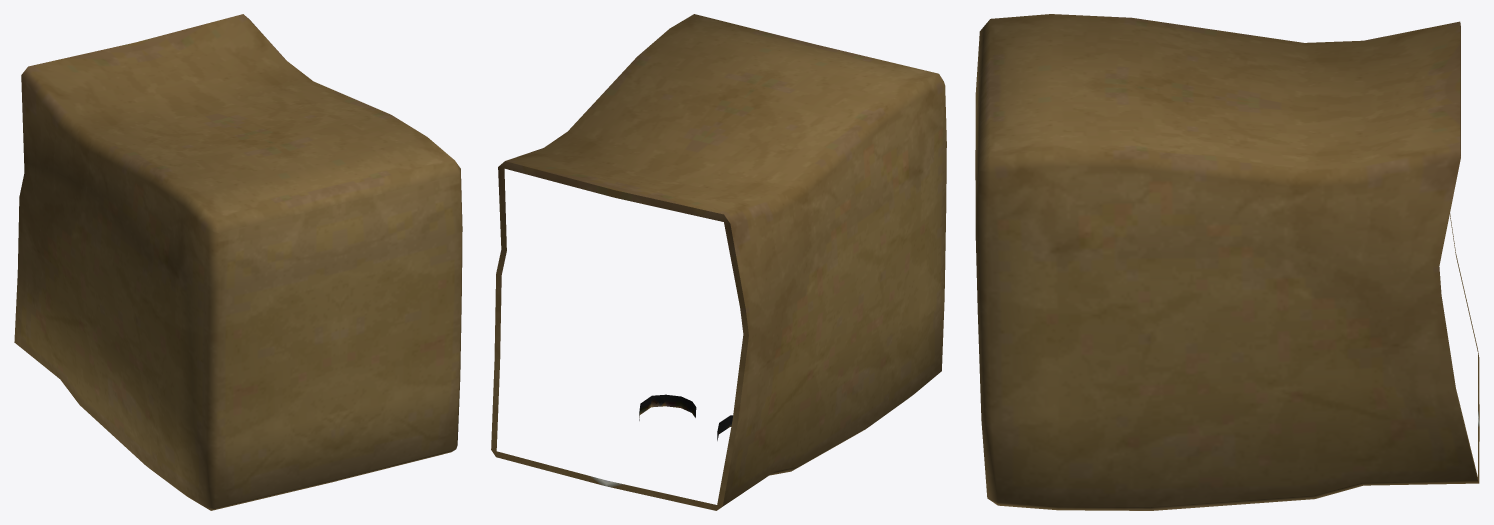
Rendered from bag.glb.
The picture shows the model from 3 angles, left to right: view 1: azimuth 30°, elevation 25°; view 2: azimuth 150°, elevation 25°; view 3: azimuth 270°, elevation 25°; orthographic projection. The views are drawn at different scales.
Visible parts, largest first — view 1: Bag; view 2: Bag; view 3: Bag.
Part boxes in pixels (x1,y1,x2,y2): Bag: [14, 14, 462, 510]; Bag: [491, 14, 946, 510]; Bag: [975, 14, 1479, 510].
Bounding box in the file's own units: 0.258 × 0.2847 × 0.3586.
1 material, 1 textured.
